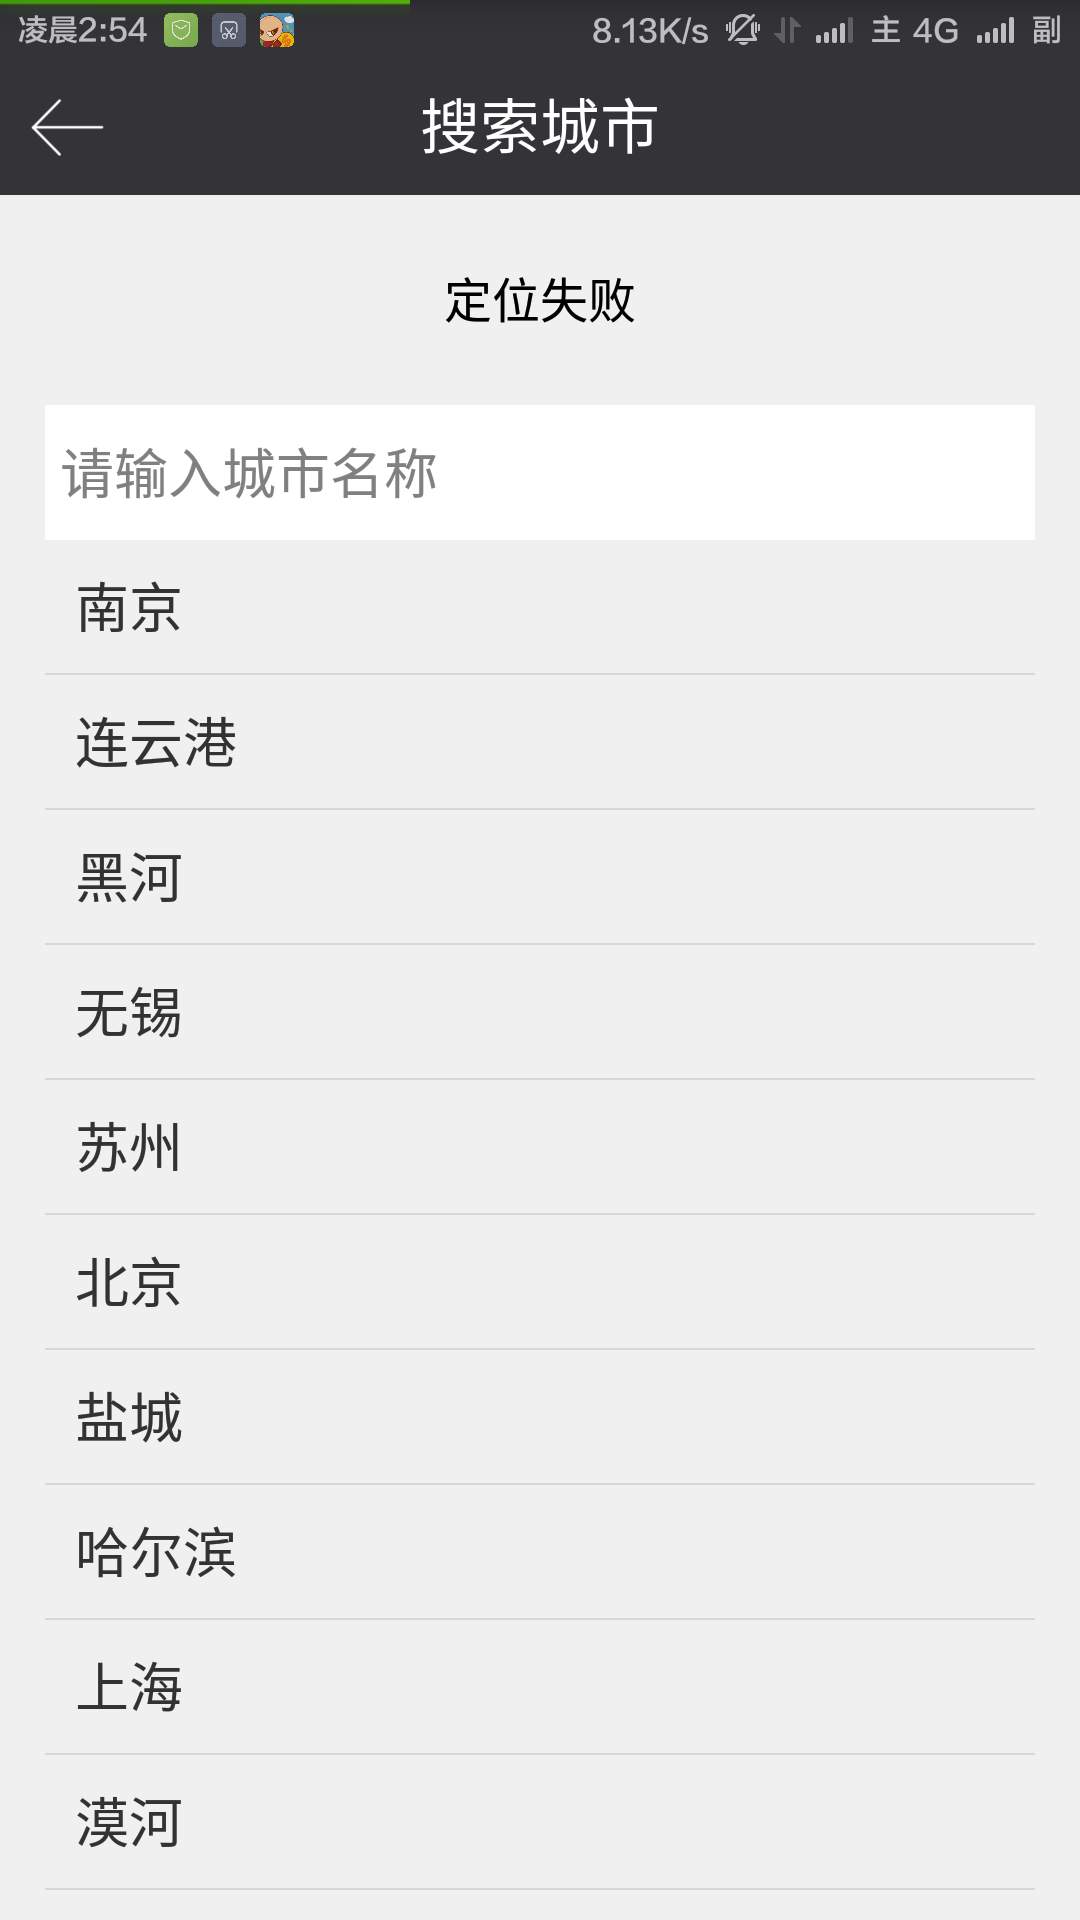textview: (42, 407, 1069, 547)
